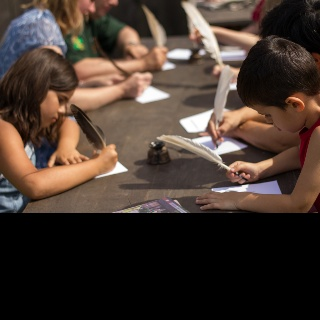without_mask: (41, 90, 75, 127), (251, 107, 294, 134)
